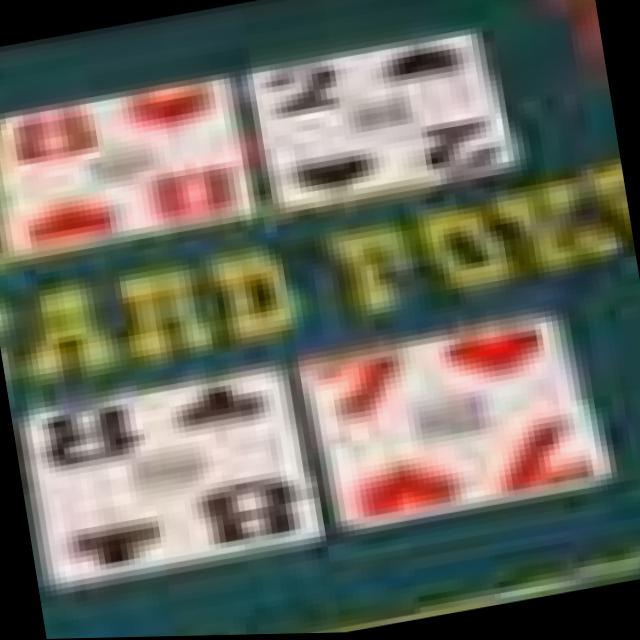Card-2: (255, 33, 512, 215)
Card-7: (306, 317, 609, 527)
Card-8: (31, 369, 322, 590), (0, 77, 250, 262)
